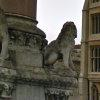Statue: (41, 14, 80, 77)
